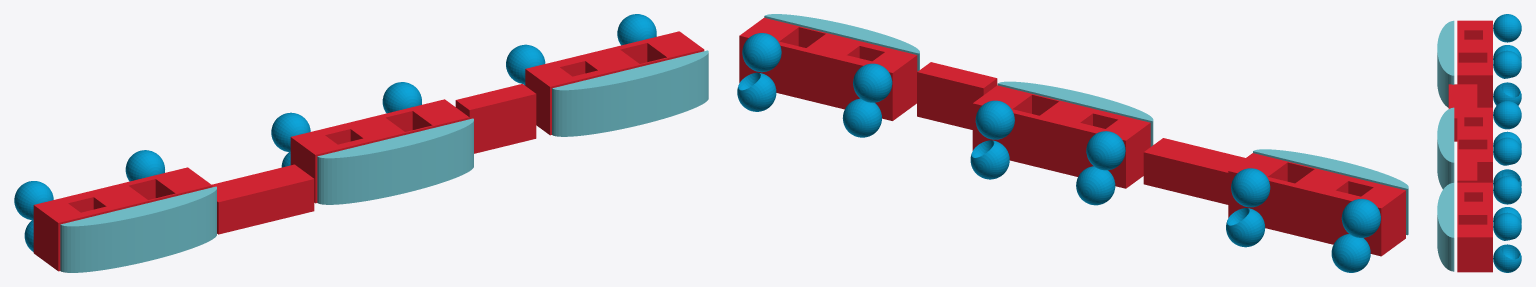
File: tinker.obj
3 renders of one model, left to right at view 1: azimuth 30°, elevation 25°; view 2: azimuth 150°, elevation 25°; view 3: azimuth 270°, elevation 25°, orthographic. The views are drawn at different scales.
Visible parts, largest first — view 1: group_0_7720667, group_0_15277357, group_0_40919; view 2: group_0_15277357, group_0_40919, group_0_7720667; view 3: group_0_15277357, group_0_40919, group_0_7720667.
Boxes of the visible parts, x1,y1,x2,y2 form: group_0_7720667: [60, 50, 708, 272]; group_0_15277357: [33, 31, 704, 271]; group_0_40919: [14, 14, 656, 251]; group_0_15277357: [739, 17, 1405, 256]; group_0_40919: [737, 33, 1380, 272]; group_0_7720667: [764, 14, 1408, 235]; group_0_15277357: [1448, 20, 1492, 272]; group_0_40919: [1493, 14, 1521, 272]; group_0_7720667: [1437, 20, 1454, 271].
Bounding box in the file's own units: 382 × 52 × 59.
